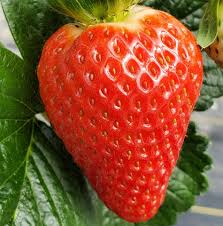Fresa: (33, 3, 207, 226)
